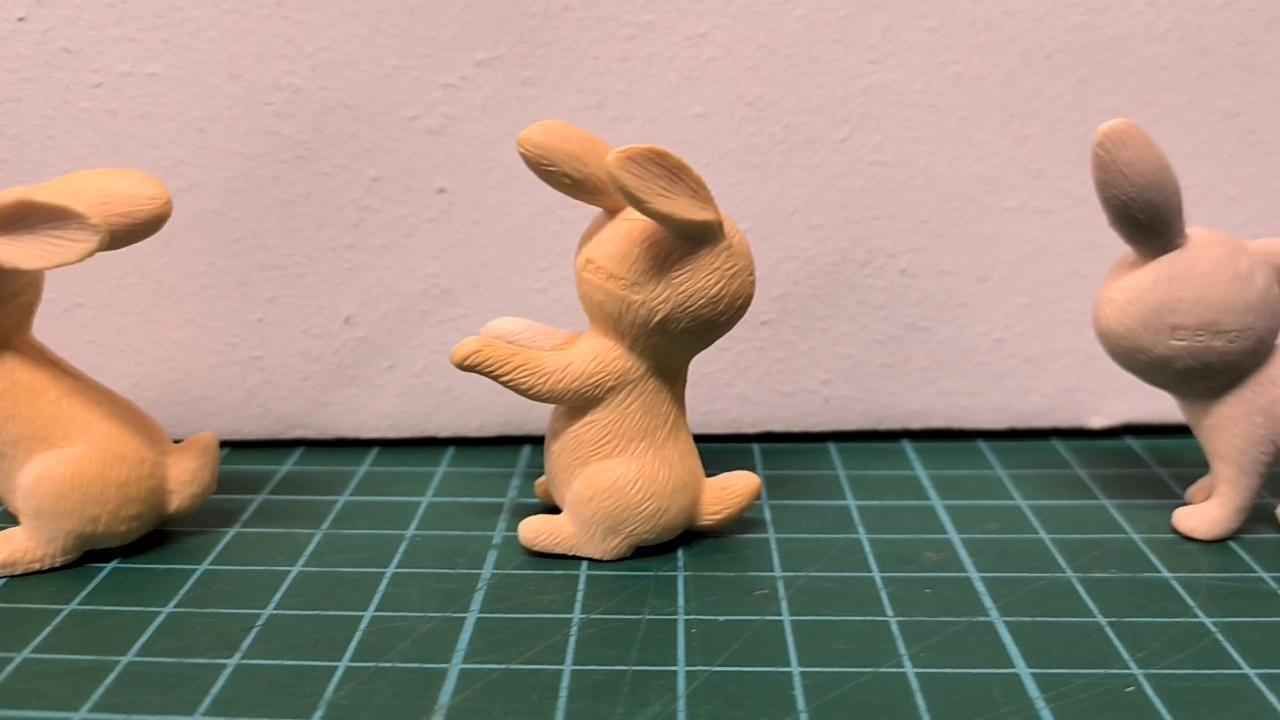pet: (449, 119, 761, 560), (0, 167, 223, 578), (1090, 118, 1280, 543)
